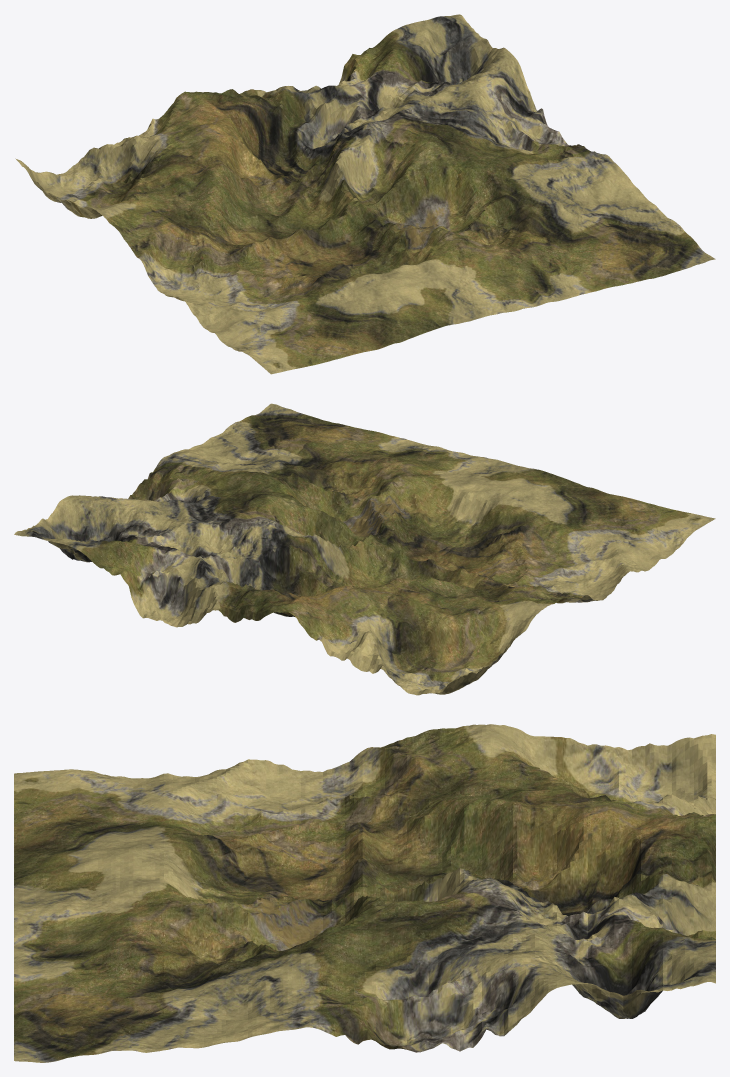
Rendered from terrain.fbx.
3 views of the same model, one above another, from view 1: azimuth 30°, elevation 25°; view 2: azimuth 150°, elevation 25°; view 3: azimuth 270°, elevation 25° (orthographic). The views are drawn at different scales.
Visible parts, largest first — view 1: Terrain_50000; view 2: Terrain_50000; view 3: Terrain_50000.
Part boxes in pixels (x1,y1,x2,y2): Terrain_50000: (15,14,715,374); Terrain_50000: (14,403,715,695); Terrain_50000: (14,724,715,1062).
Bounding box in the file's own units: 15910 × 2468 × 15910.
